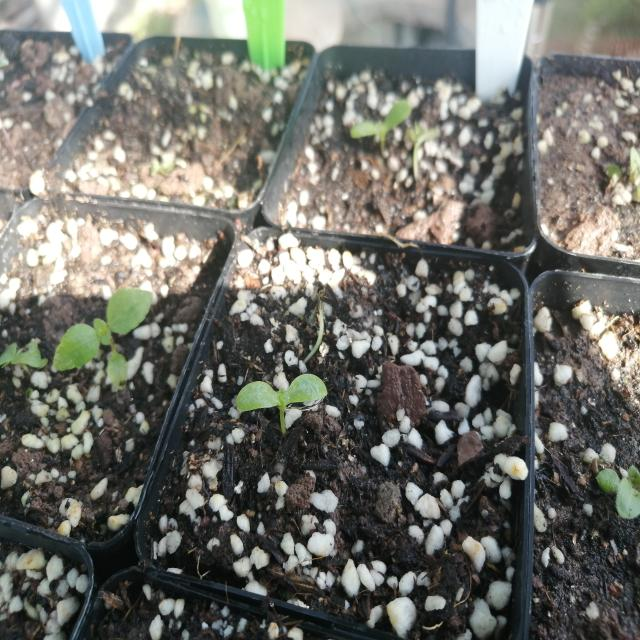field_thistle: (38, 272, 159, 392), (222, 363, 339, 446)
